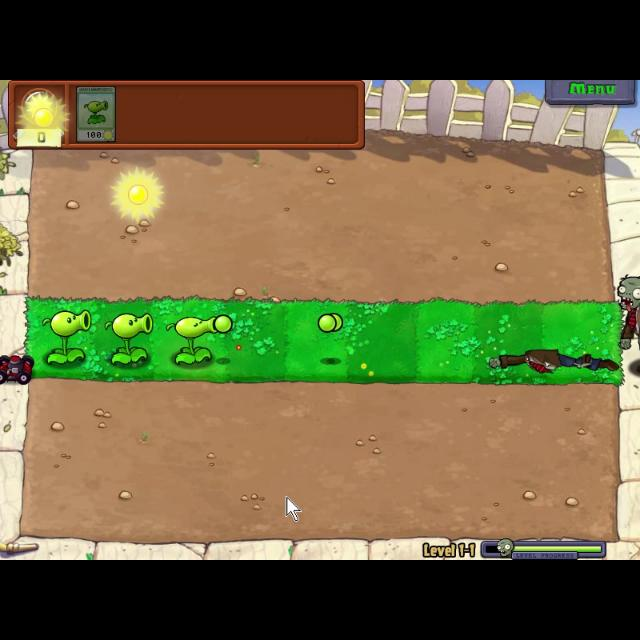Garden: (24, 293, 630, 393)
Menu Button: (543, 80, 637, 106)
Mower: (0, 352, 36, 386)
Peashooter: (76, 82, 116, 144)
Peashooter Seed: (164, 312, 226, 368), (38, 309, 94, 365), (102, 310, 156, 366)
Seed Panel: (6, 80, 367, 152)
Sun: (108, 165, 166, 223)
Zombie: (610, 270, 640, 374)
